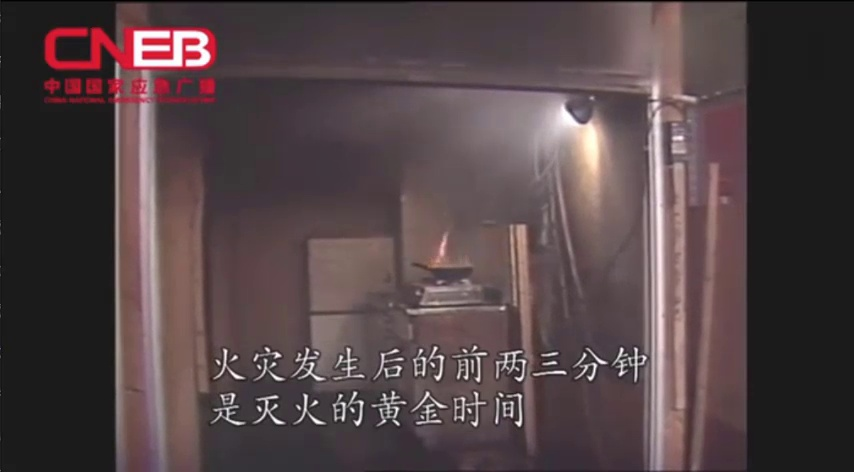fire: (421, 224, 466, 275)
